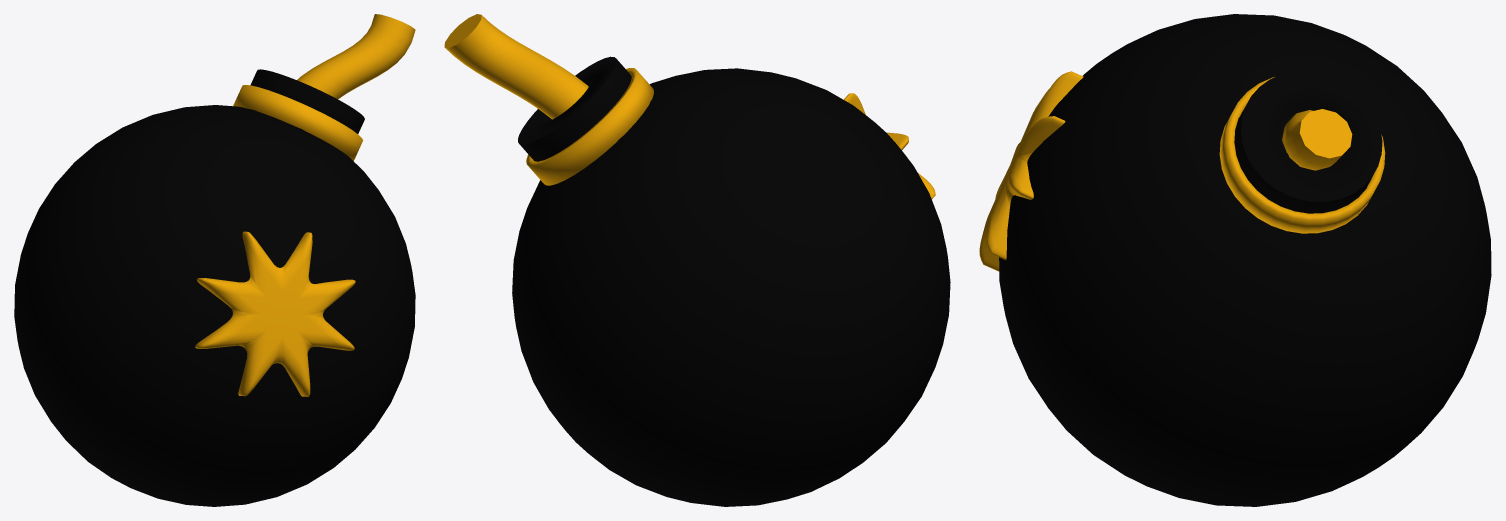
The model's file is bomb 1.1.fbx.
3 renders of one model, left to right at view 1: azimuth 30°, elevation 25°; view 2: azimuth 150°, elevation 25°; view 3: azimuth 270°, elevation 25°, orthographic. The views are drawn at different scales.
Parts seen in each view (by area): view 1: bomb; view 2: bomb; view 3: bomb.
Part boxes in pixels (x1,y1,x2,y2): bomb: [14, 14, 415, 506]; bomb: [444, 14, 950, 506]; bomb: [979, 14, 1491, 506].
Size of the model in its own units: 231 by 221 by 208.
